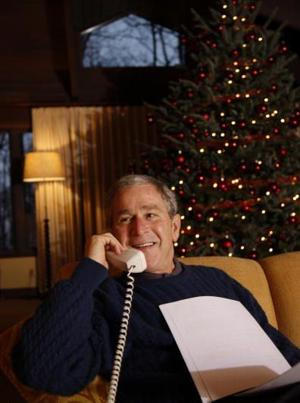person: (11, 173, 300, 403)
